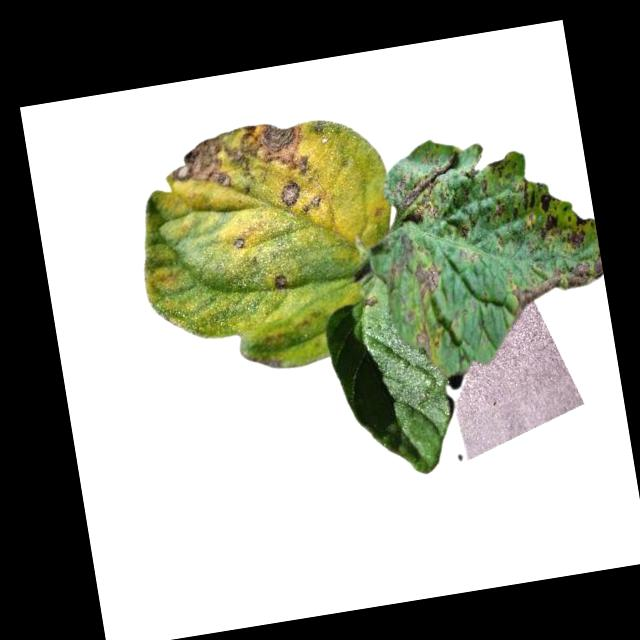Early_blight: (160, 115, 313, 199), (508, 255, 607, 318), (386, 152, 465, 226), (506, 174, 562, 243), (560, 212, 598, 254), (409, 260, 445, 299), (413, 324, 435, 359), (279, 179, 302, 205), (300, 194, 326, 213), (486, 155, 507, 177), (489, 196, 507, 219), (457, 220, 475, 240), (363, 288, 380, 309), (272, 271, 289, 290), (232, 234, 247, 250)
